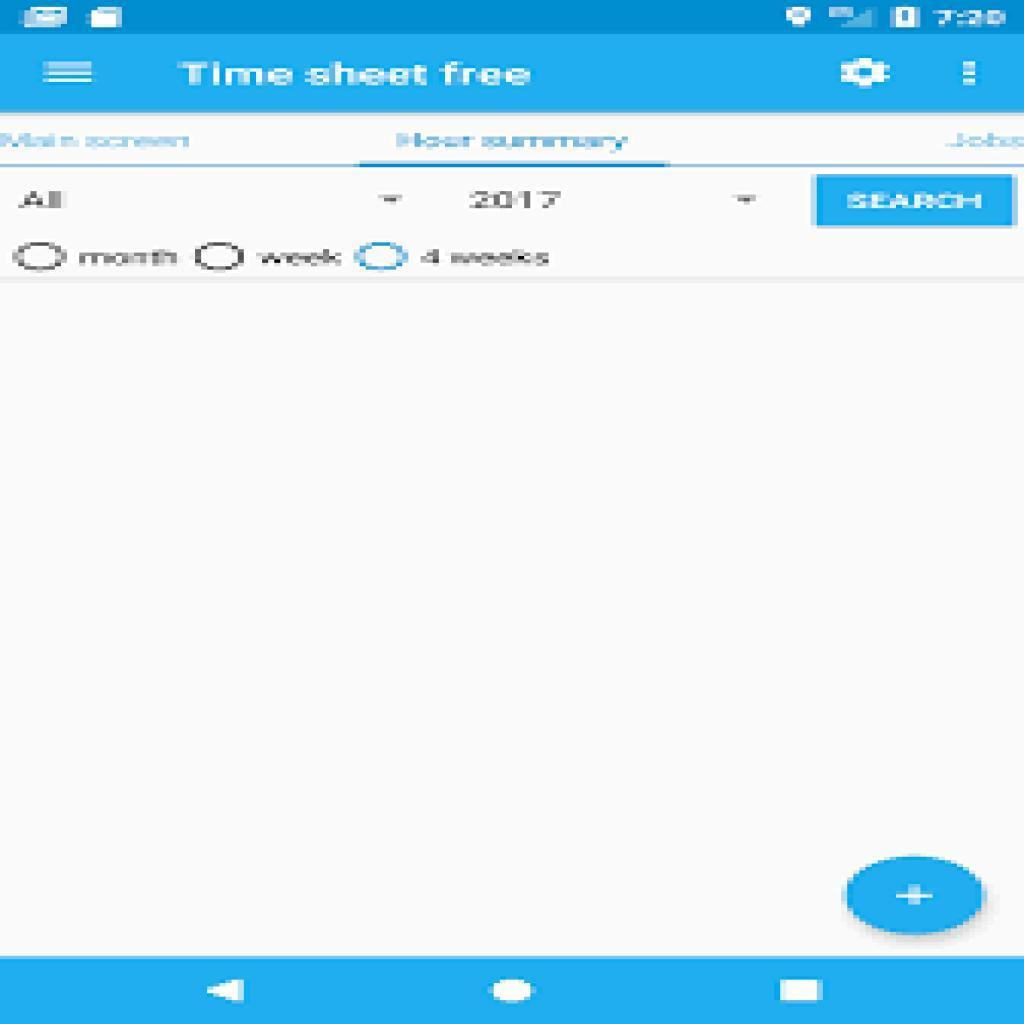button: (811, 173, 1019, 231)
dropdown: (16, 187, 407, 211), (469, 188, 763, 214)
icon: (840, 54, 894, 93), (775, 974, 830, 1008), (42, 57, 98, 90), (490, 974, 535, 1008), (205, 975, 245, 1010), (895, 880, 937, 910), (957, 57, 985, 95)
label: (179, 56, 537, 88), (394, 131, 632, 155), (1, 132, 196, 150), (420, 247, 556, 271), (253, 248, 345, 271), (79, 250, 178, 267)
radio: (354, 240, 410, 274), (11, 241, 68, 273), (196, 241, 246, 274)
